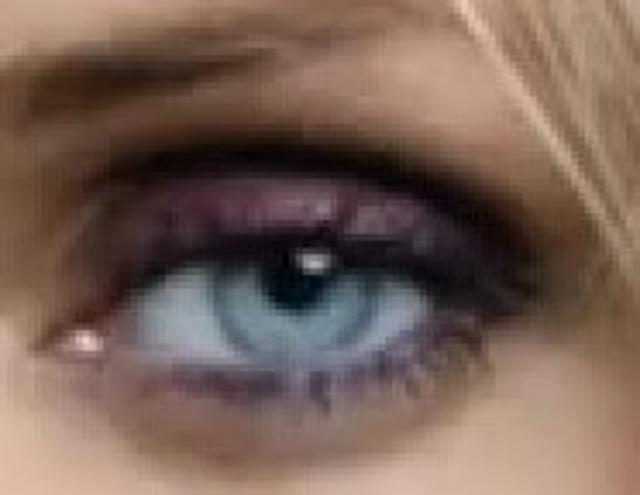eye: (209, 228, 385, 370)
